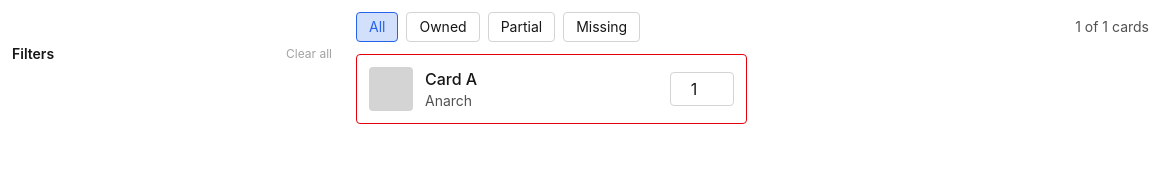
SetCardGrid › a card with no declared printed quantity is never "Partial", only "Owned" once it has any
Step 1. Click the button "Partial" → click(521, 27), box [488, 12, 555, 42]
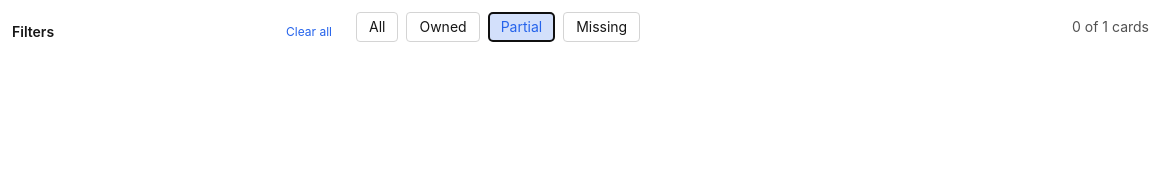
expect the text "Card A" is gone: met
Step 2. Click the button "Owned" → click(443, 27), box [406, 12, 480, 42]
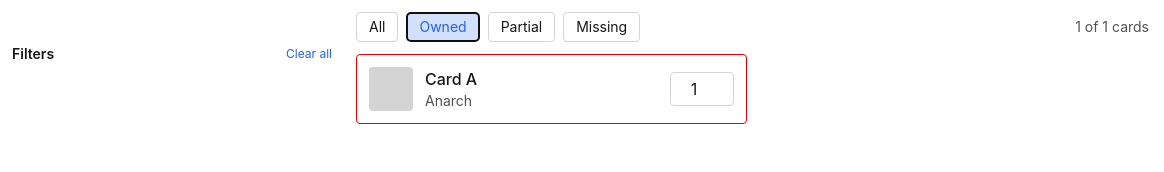
expect the text "Card A" is shown: met, box [425, 69, 477, 89]
